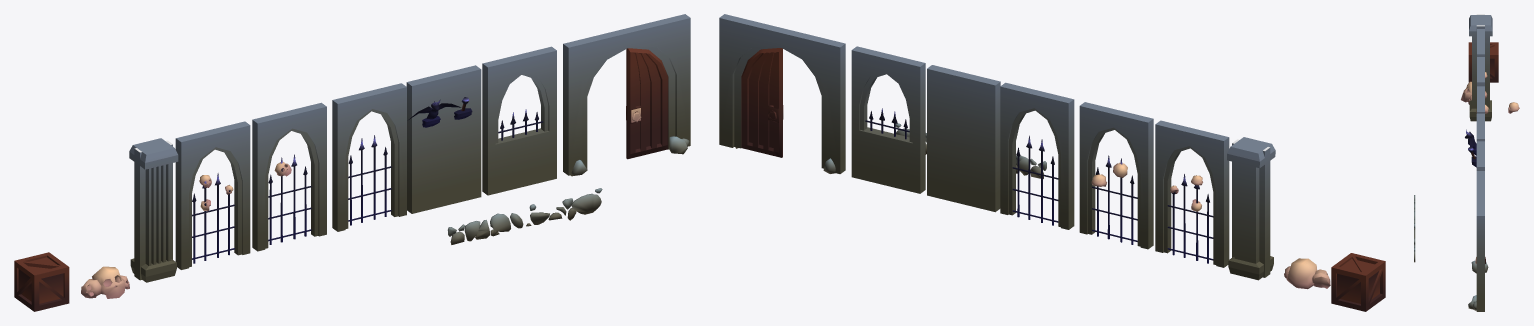
File: WRLD_FBX_Asset_Kit_v2 1.fbx
The picture shows the model from 3 angles, left to right: view 1: azimuth 30°, elevation 25°; view 2: azimuth 150°, elevation 25°; view 3: azimuth 270°, elevation 25°; orthographic projection. The views are drawn at different scales.
Visible parts, largest first — view 1: Cube.001, Cube.007, Cylinder.003, Cube.003, Cube.020, Cube.002, Cube.008, Cube.009, Cube.015, rock.002, Cube.006, Cube.012 (+5 smaller); view 2: Cube.001, Cube.007, Cylinder.003, Cube.002, Cube.003, Cube.020, Cube.008, Cube.009, Cube.015, Cube.006, Cube.012, Cylinder.002 (+3 smaller); view 3: Cube.009, Cube.007, Cube.015, Cylinder.003, Cube.001, Cube.002, Cube.003, Cube.020, rock.025, Cube.012, Cube.010, rock.002 (+3 smaller).
Boxes of the visible parts, left/top/right/bottom form: Cube.001: left=406, top=65, right=481, bottom=213; Cube.007: left=563, top=14, right=690, bottom=175; Cylinder.003: left=482, top=46, right=556, bottom=195; Cube.003: left=175, top=121, right=250, bottom=269; Cube.020: left=332, top=83, right=406, bottom=231; Cube.002: left=252, top=102, right=326, bottom=251; Cube.008: left=626, top=48, right=668, bottom=159; Cube.009: left=129, top=138, right=178, bottom=282; Cube.015: left=14, top=252, right=69, bottom=311; rock.002: left=447, top=188, right=602, bottom=244; Cube.006: left=134, top=140, right=172, bottom=280; Cube.012: left=81, top=266, right=129, bottom=298; Cube.001: left=927, top=65, right=1000, bottom=212; Cube.007: left=719, top=14, right=845, bottom=173; Cylinder.003: left=851, top=46, right=925, bottom=193; Cube.002: left=1079, top=102, right=1153, bottom=249; Cube.003: left=1155, top=120, right=1229, bottom=267; Cube.020: left=1000, top=82, right=1074, bottom=229; Cube.008: left=741, top=48, right=783, bottom=157; Cube.009: left=1227, top=137, right=1275, bottom=280; Cube.015: left=1331, top=253, right=1385, bottom=311; Cube.006: left=1232, top=139, right=1270, bottom=277; Cube.012: left=1284, top=258, right=1330, bottom=289; Cylinder.002: left=1016, top=135, right=1054, bottom=225; Cube.009: left=1469, top=15, right=1492, bottom=121; Cube.007: left=1476, top=171, right=1484, bottom=311; Cube.015: left=1468, top=42, right=1498, bottom=82; Cylinder.003: left=1476, top=141, right=1484, bottom=170; Cube.001: left=1476, top=113, right=1484, bottom=141; Cube.002: left=1477, top=57, right=1484, bottom=86; Cube.003: left=1477, top=29, right=1484, bottom=56; Cube.020: left=1477, top=86, right=1484, bottom=113; rock.025: left=1468, top=260, right=1488, bottom=310; Cube.012: left=1461, top=81, right=1471, bottom=104; Cube.010: left=1465, top=129, right=1476, bottom=155; rock.002: left=1414, top=195, right=1415, bottom=262.
Size of the model in its own units: 1624 by 311 by 300.
